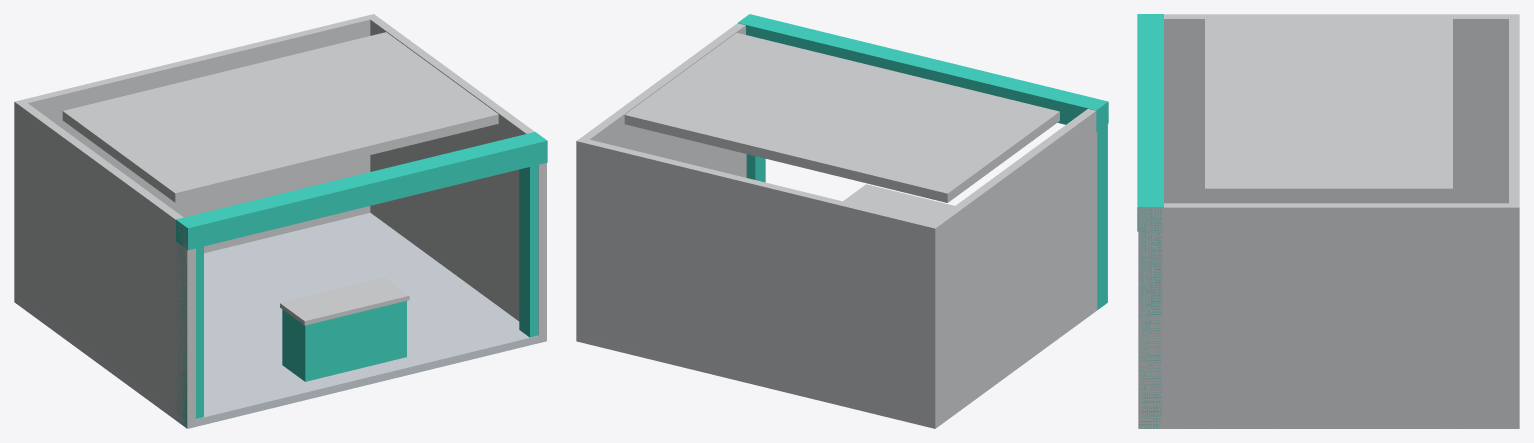
The picture shows the model from 3 angles, left to right: view 1: azimuth 30°, elevation 25°; view 2: azimuth 150°, elevation 25°; view 3: azimuth 270°, elevation 25°; orthographic projection. The views are drawn at different scales.
Visible parts, largest first — view 1: Exhibition Booth Concept; view 2: Exhibition Booth Concept; view 3: Exhibition Booth Concept.
Boxes of the visible parts, x1,y1,x2,y2 form: Exhibition Booth Concept: [14, 14, 547, 428]; Exhibition Booth Concept: [576, 14, 1108, 428]; Exhibition Booth Concept: [1137, 14, 1519, 428].
Size of the model in its own units: 6 by 3.34 by 5.02.
